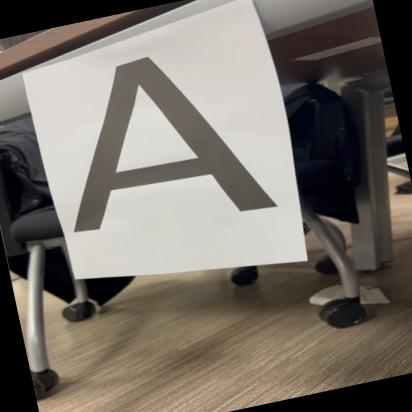seat: (35, 34, 284, 255)
